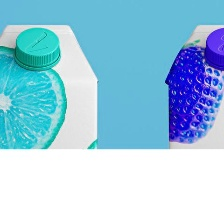carton: (0, 19, 102, 148), (162, 21, 224, 149)
